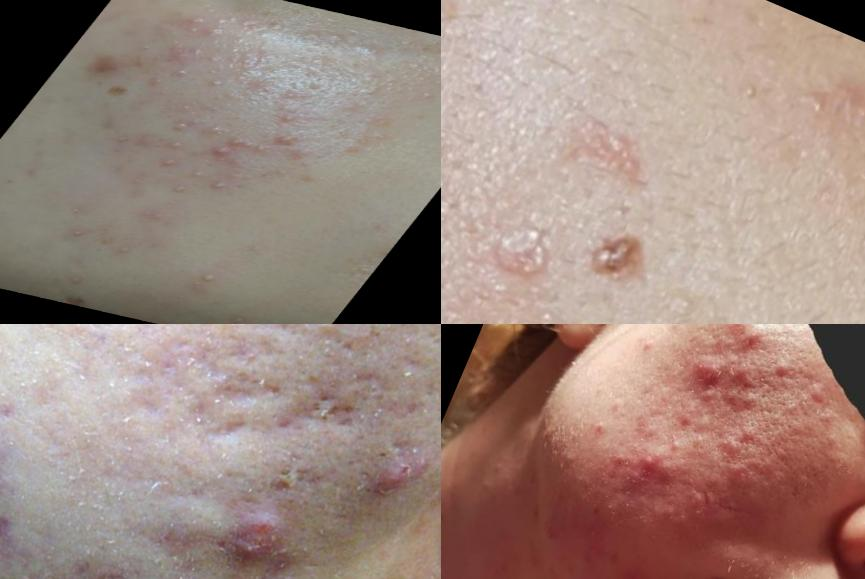acne_scars: (212, 365, 283, 425), (289, 390, 359, 448), (1, 433, 24, 579), (343, 357, 404, 411)
blackhead: (714, 433, 749, 464), (741, 421, 762, 443)
cystic: (687, 348, 729, 397)
flat_wart: (447, 212, 559, 297)
papular: (709, 374, 771, 424), (635, 439, 683, 487), (60, 48, 128, 81), (722, 352, 769, 397), (721, 325, 774, 359), (680, 479, 720, 520), (574, 517, 608, 555), (764, 354, 797, 385), (807, 381, 840, 412)
purulent: (168, 267, 243, 304), (198, 132, 260, 165), (265, 97, 318, 127), (213, 309, 305, 325), (266, 127, 311, 153), (166, 117, 207, 139), (106, 240, 143, 260), (171, 162, 209, 181), (61, 224, 97, 244), (59, 271, 96, 290), (204, 178, 235, 197), (152, 139, 184, 153), (158, 156, 181, 171)
sebo-crystan-conglo: (203, 485, 311, 579), (575, 228, 659, 303), (359, 447, 420, 520)
whitehead: (147, 1, 274, 48), (172, 43, 251, 78), (461, 468, 502, 507), (300, 325, 350, 354), (396, 87, 442, 112), (199, 77, 232, 93), (167, 181, 197, 198), (166, 68, 193, 81)
